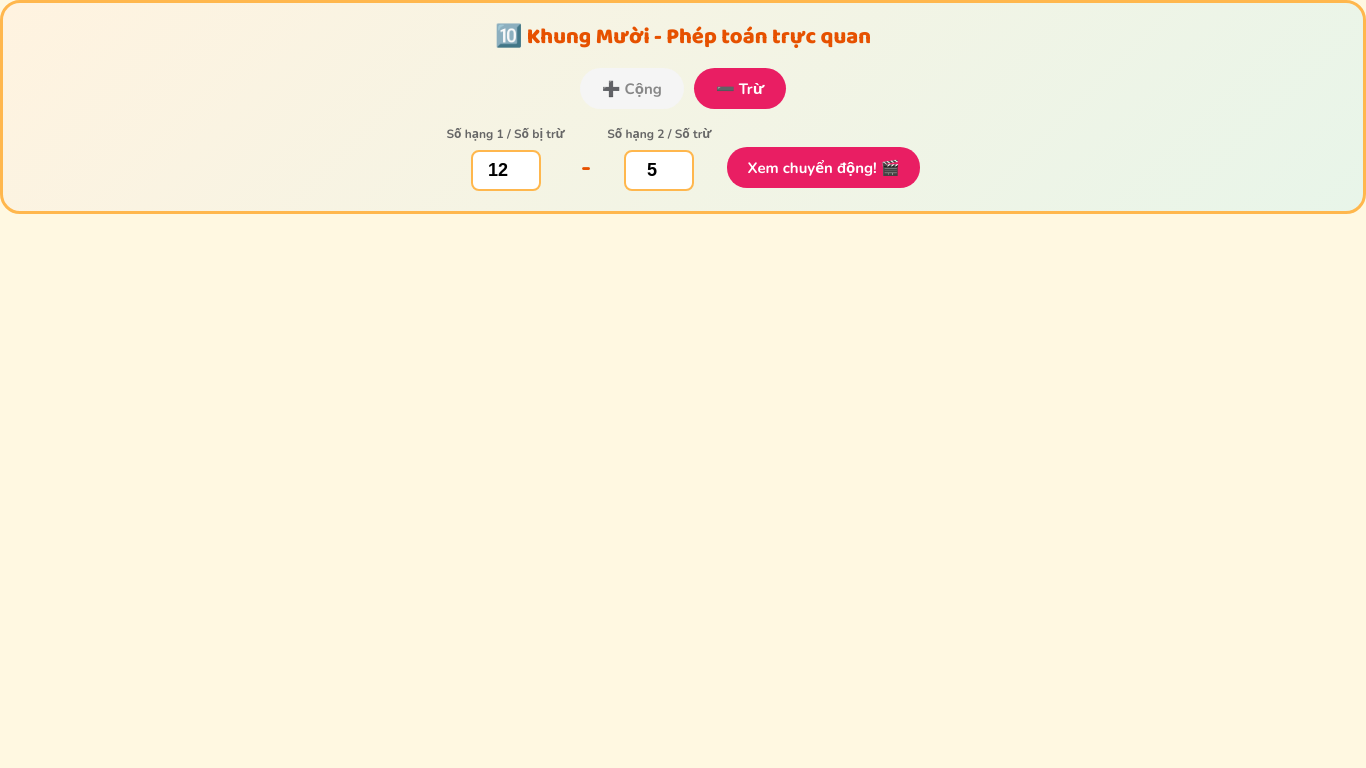
Test case: TenFrames visualizer › animates subtraction step-by-step with double ten-frames
Click the button with test id "btn-animate": (824, 168) top-left (728, 147), bottom-right (920, 188)
Wait 4000 ms
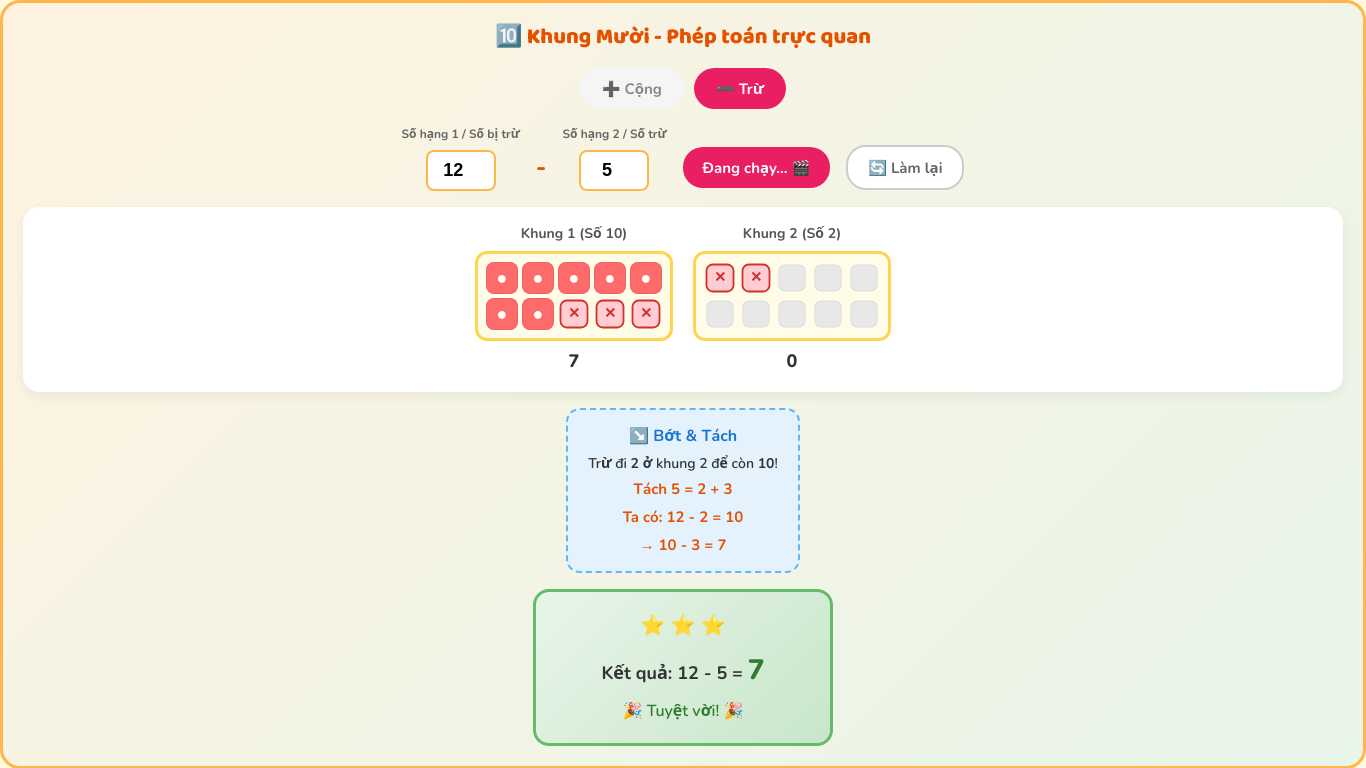
Check: the element with test id "result-box" shows "Kết quả: 12 - 5 = 7", box top-left (533, 589), bottom-right (833, 746)
